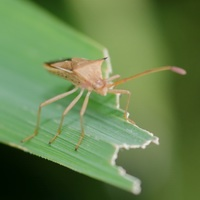insect: (21, 56, 186, 150)
